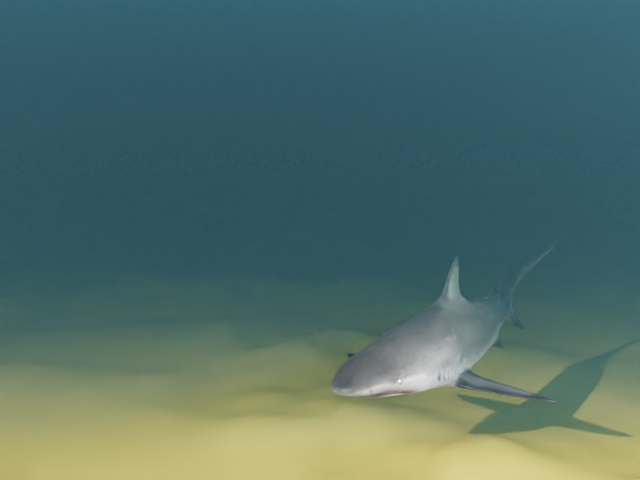Carribean Shark.001: (330, 238, 563, 402)
